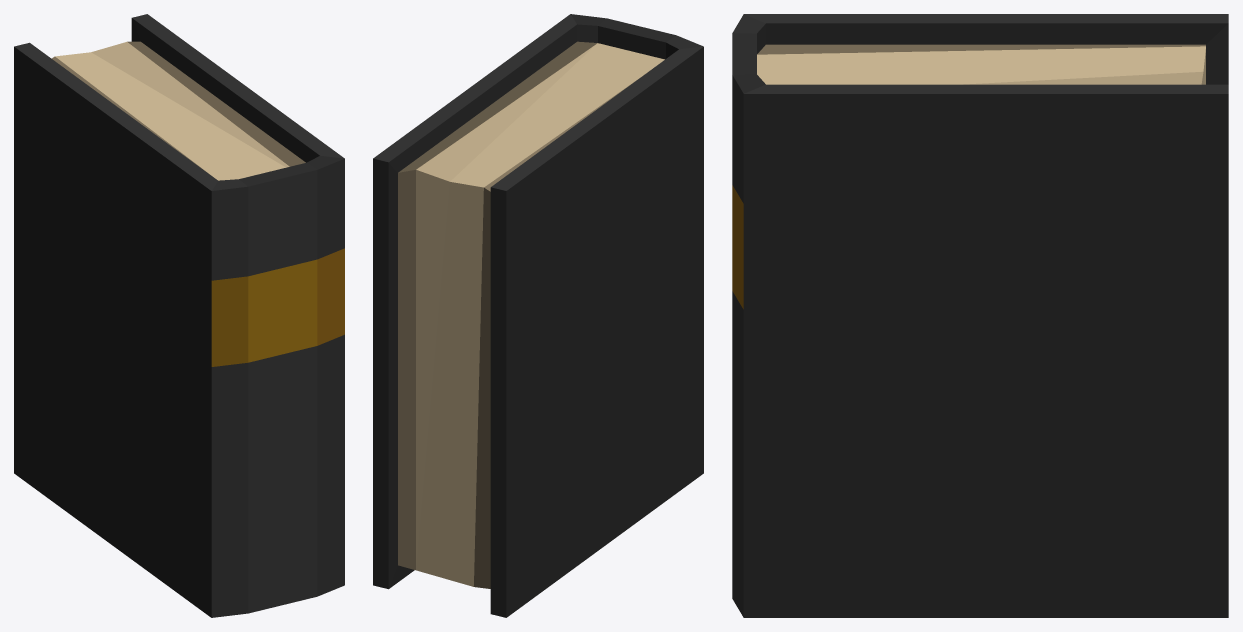
The model's file is Prop_BookF.fbx.
3 views of the same model, side by side, from view 1: azimuth 30°, elevation 25°; view 2: azimuth 150°, elevation 25°; view 3: azimuth 270°, elevation 25° (orthographic). The views are drawn at different scales.
Parts seen in each view (by area): view 1: Prop_BookF; view 2: Prop_BookF; view 3: Prop_BookF.
Part boxes in pixels (x1,y1,x2,y2): Prop_BookF: [14, 14, 344, 617]; Prop_BookF: [373, 14, 703, 617]; Prop_BookF: [732, 14, 1228, 617].
Size of the model in its own units: 8.48 by 25.92 by 22.25.
